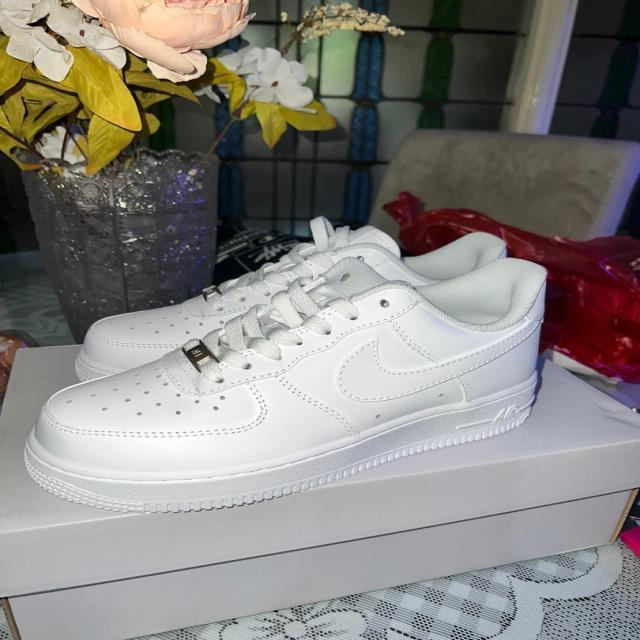nike original air force: (0, 255, 634, 520), (59, 133, 91, 147)
